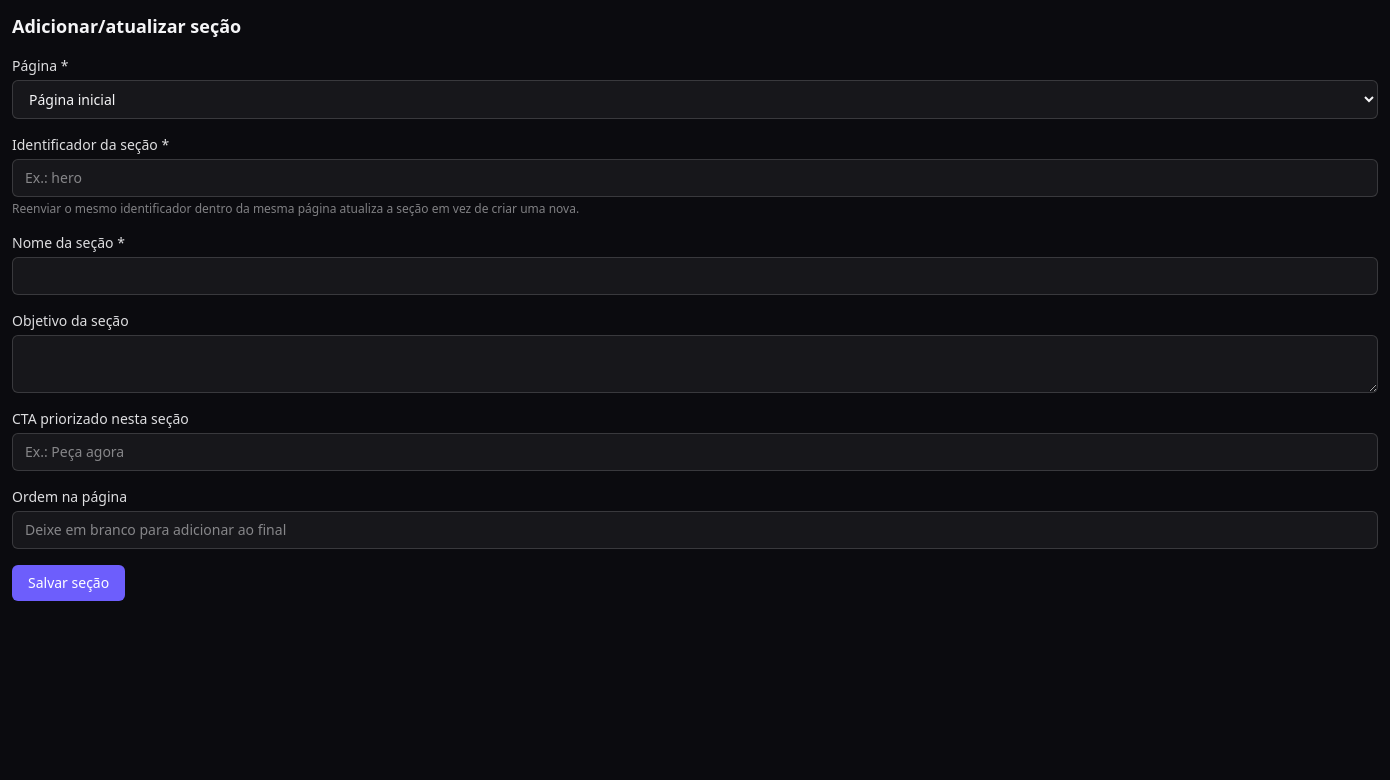
SitePageSectionForm › shows a pending state while the action is running
Click the button "Salvar seção".
click(69, 583)  # box top-left (12, 565), bottom-right (125, 601)
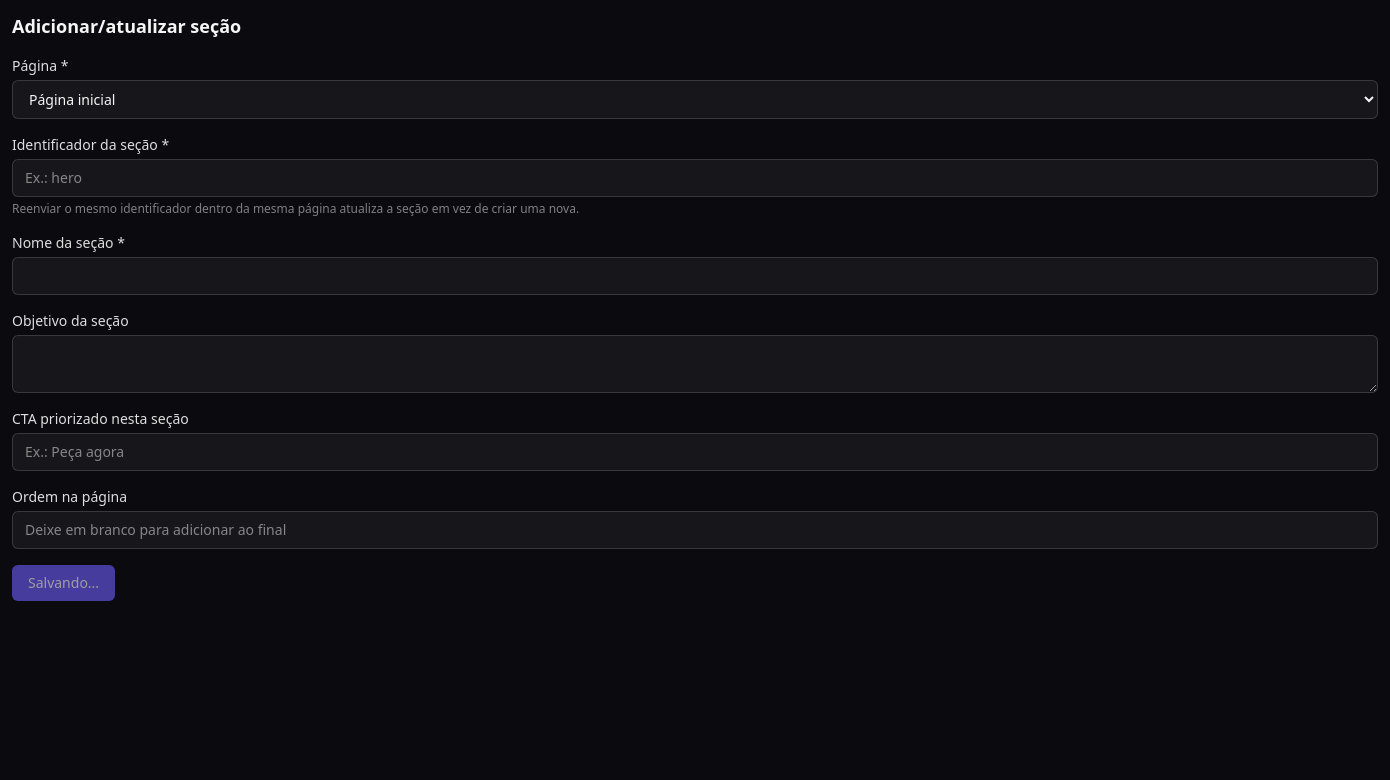
Expected: the button "Salvando..." is disabled, top-left (12, 565), bottom-right (115, 601)
